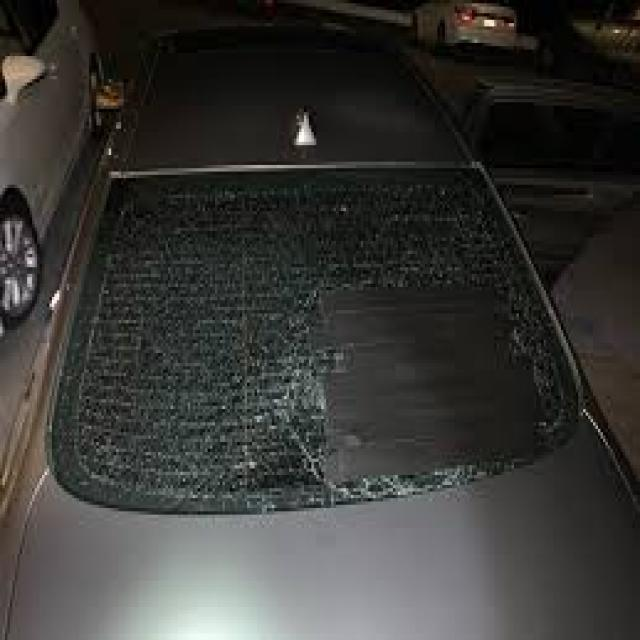damaged-rear-window: (48, 158, 584, 499)
